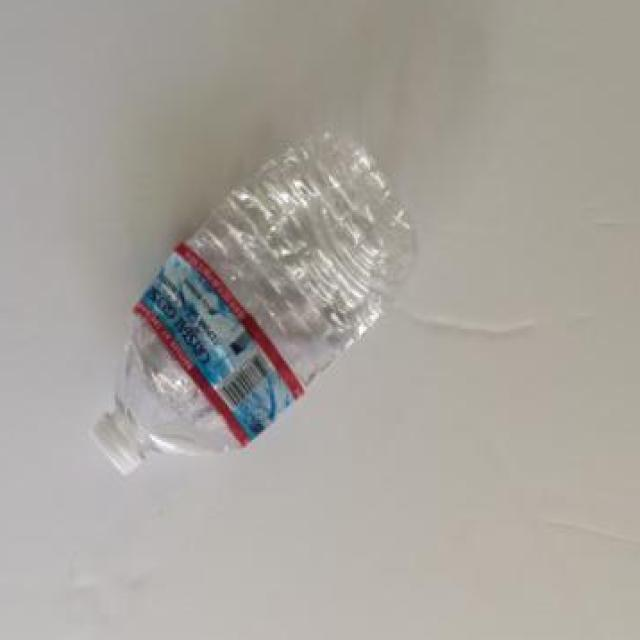organic: (67, 102, 433, 498)
